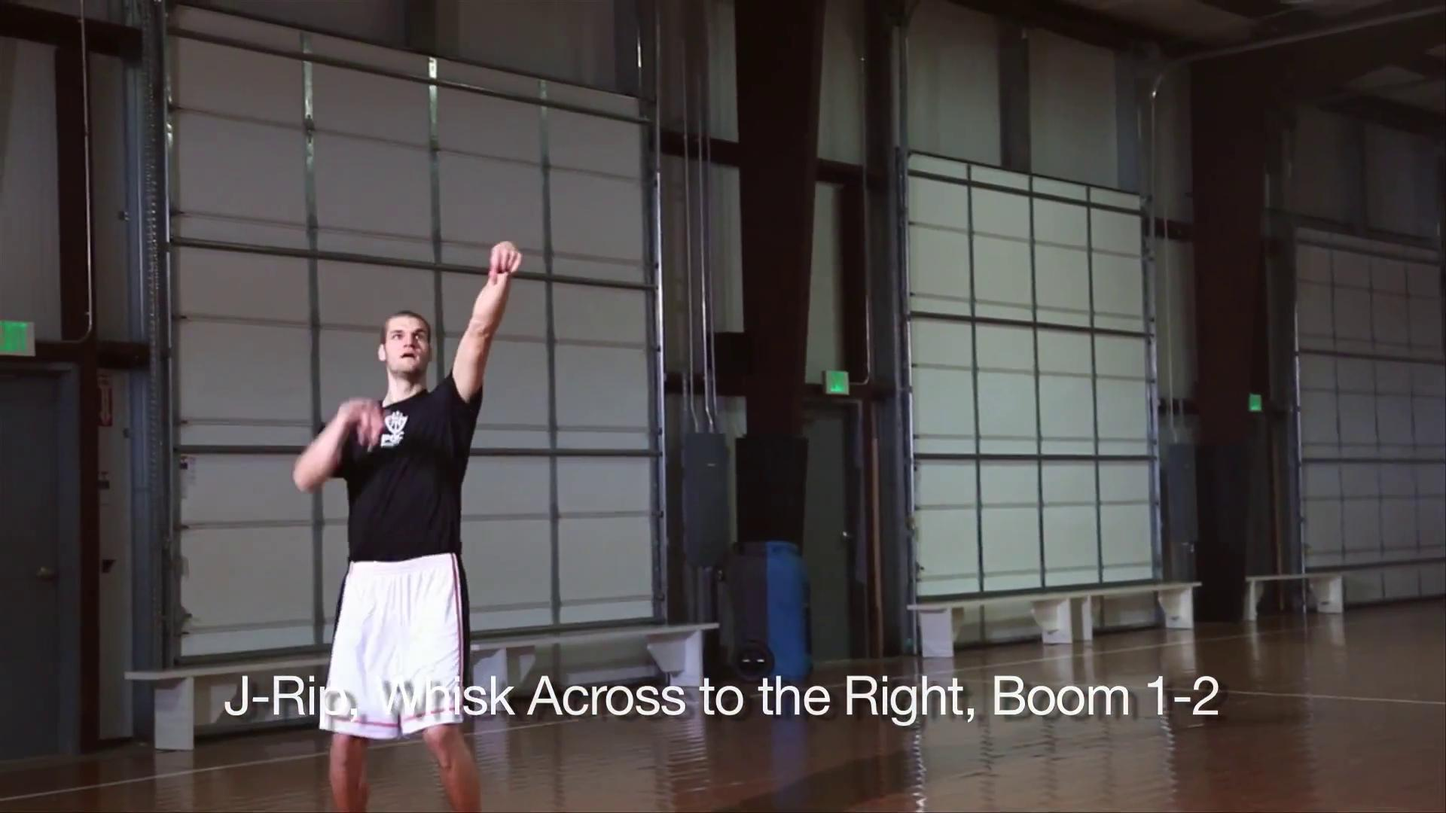victim: (285, 238, 525, 810)
